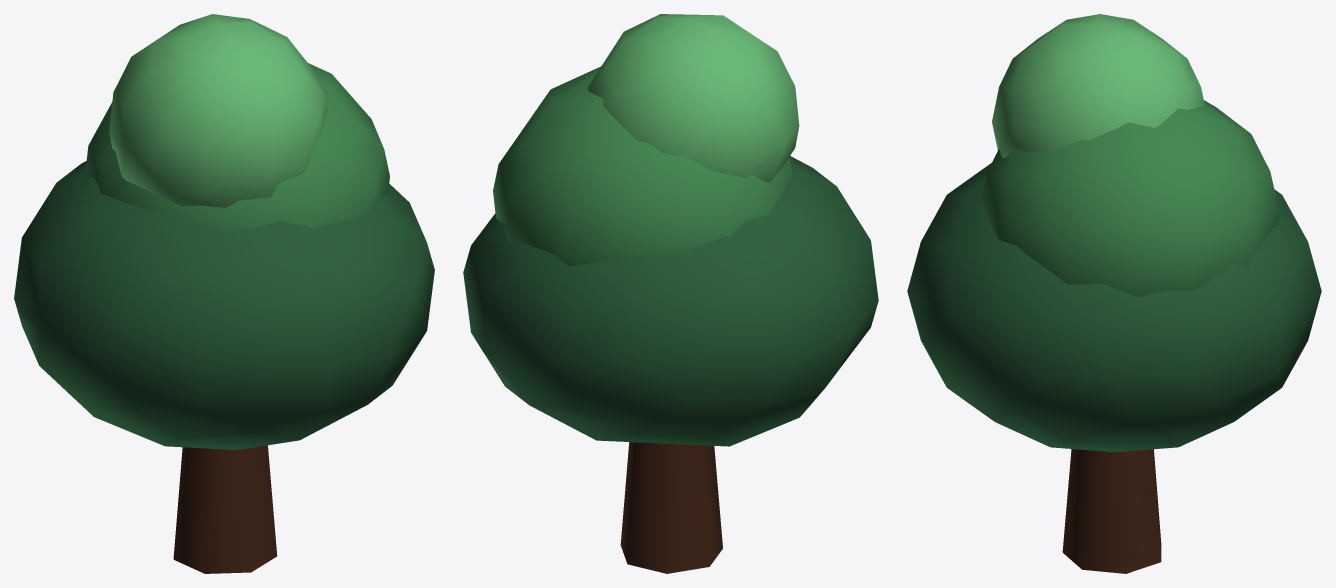
Rendered from tree_oak.glb.
3 renders of one model, left to right at view 1: azimuth 30°, elevation 25°; view 2: azimuth 150°, elevation 25°; view 3: azimuth 270°, elevation 25°, orthographic. The views are drawn at different scales.
Parts seen in each view (by area): view 1: Kenney_Tree_Oak; view 2: Kenney_Tree_Oak; view 3: Kenney_Tree_Oak.
Part boxes in pixels (x1,y1,x2,y2): Kenney_Tree_Oak: (14, 14, 434, 573); Kenney_Tree_Oak: (463, 14, 878, 573); Kenney_Tree_Oak: (907, 14, 1321, 573).
Size of the model in its own units: 2.88 by 4 by 2.88.
